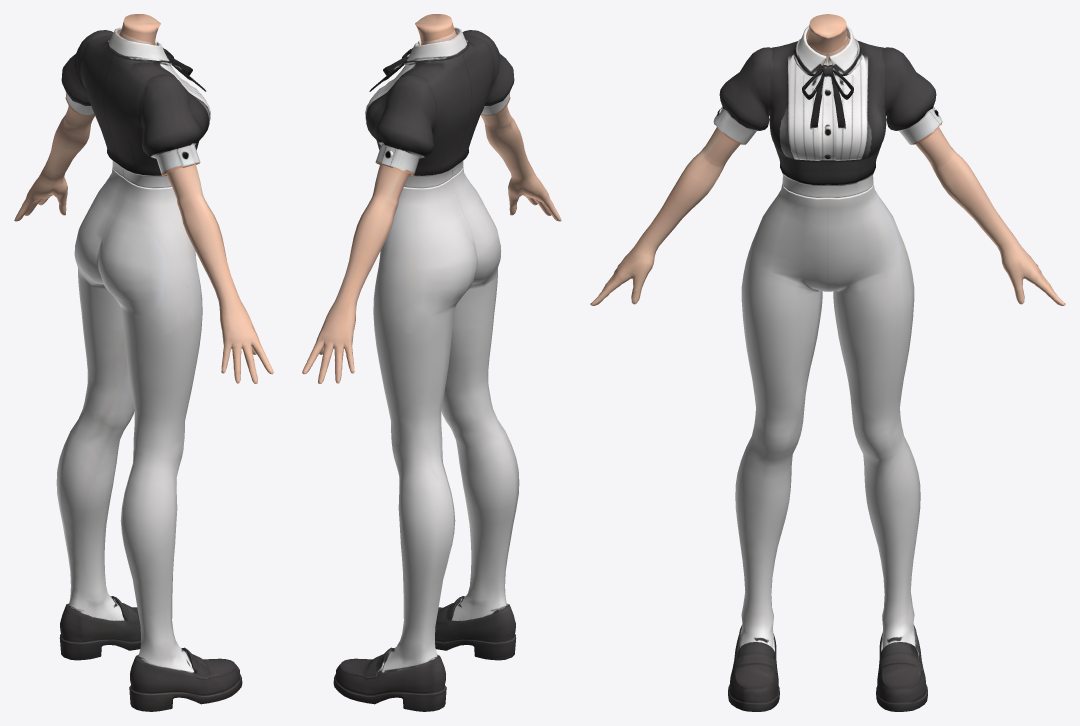
The model's file is MaidBody_P2_Detailed.fbx.
The picture shows the model from 3 angles, left to right: view 1: azimuth 30°, elevation 25°; view 2: azimuth 150°, elevation 25°; view 3: azimuth 270°, elevation 25°; orthographic projection.
Parts seen in each view (by area): view 1: tripo_node_4b944d5f; view 2: tripo_node_4b944d5f; view 3: tripo_node_4b944d5f.
Boxes of the visible parts, x1=… form: tripo_node_4b944d5f: x1=14, y1=14, x2=273, y2=711; tripo_node_4b944d5f: x1=302, y1=14, x2=561, y2=711; tripo_node_4b944d5f: x1=590, y1=14, x2=1065, y2=711.
Bounding box in the file's own units: 18.02 × 99.95 × 64.99.
Materials: 1 (1 with a texture image).
